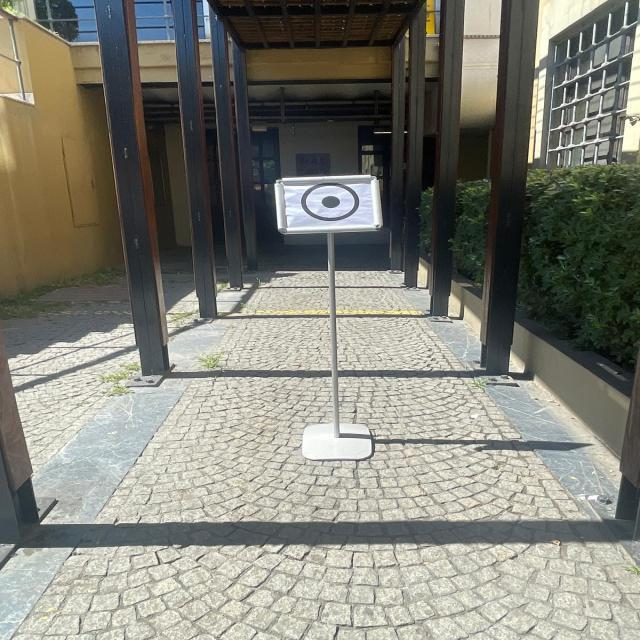Target: (260, 168, 400, 235)
inner: (315, 190, 348, 217)
